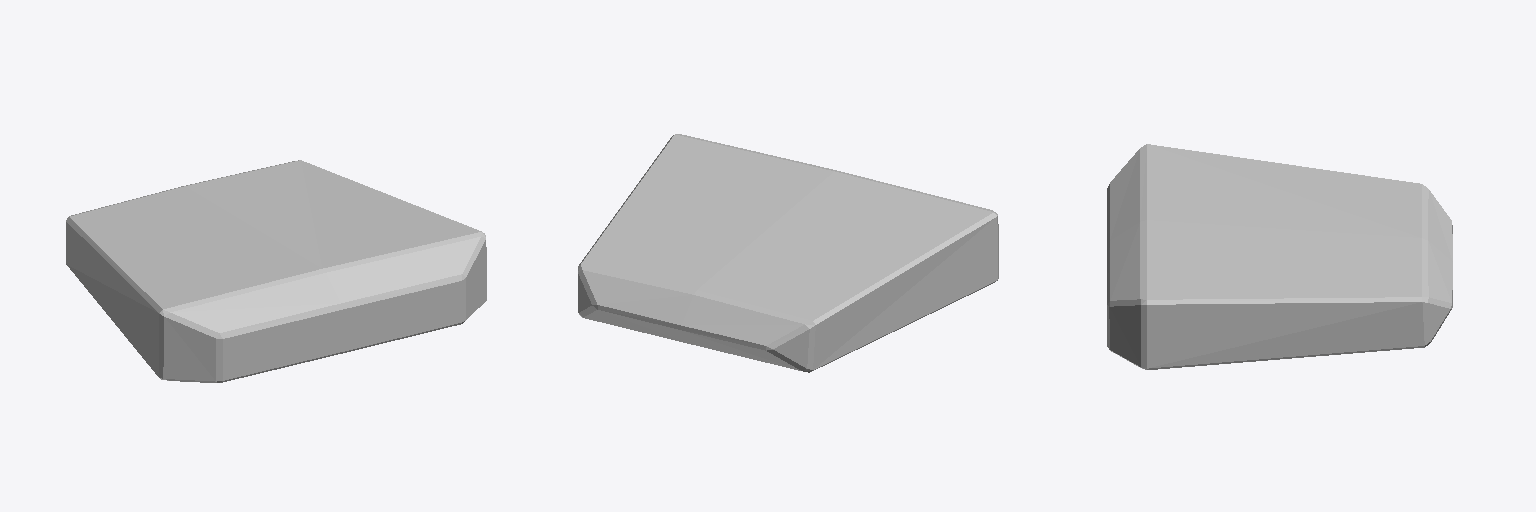
The model's file is large_tank_turret.obj.
The picture shows the model from 3 angles: view 1: azimuth 30°, elevation 25°; view 2: azimuth 150°, elevation 25°; view 3: azimuth 270°, elevation 25°; orthographic projection.
Parts seen in each view (by area): view 1: Plane.005_Plane.014; view 2: Plane.005_Plane.014; view 3: Plane.005_Plane.014.
Boxes of the visible parts, x1,y1,x2,y2 form: Plane.005_Plane.014: [66, 160, 486, 382]; Plane.005_Plane.014: [578, 134, 998, 372]; Plane.005_Plane.014: [1107, 144, 1452, 369].
Size of the model in its own units: 0.4696 by 0.0984 by 0.4298.